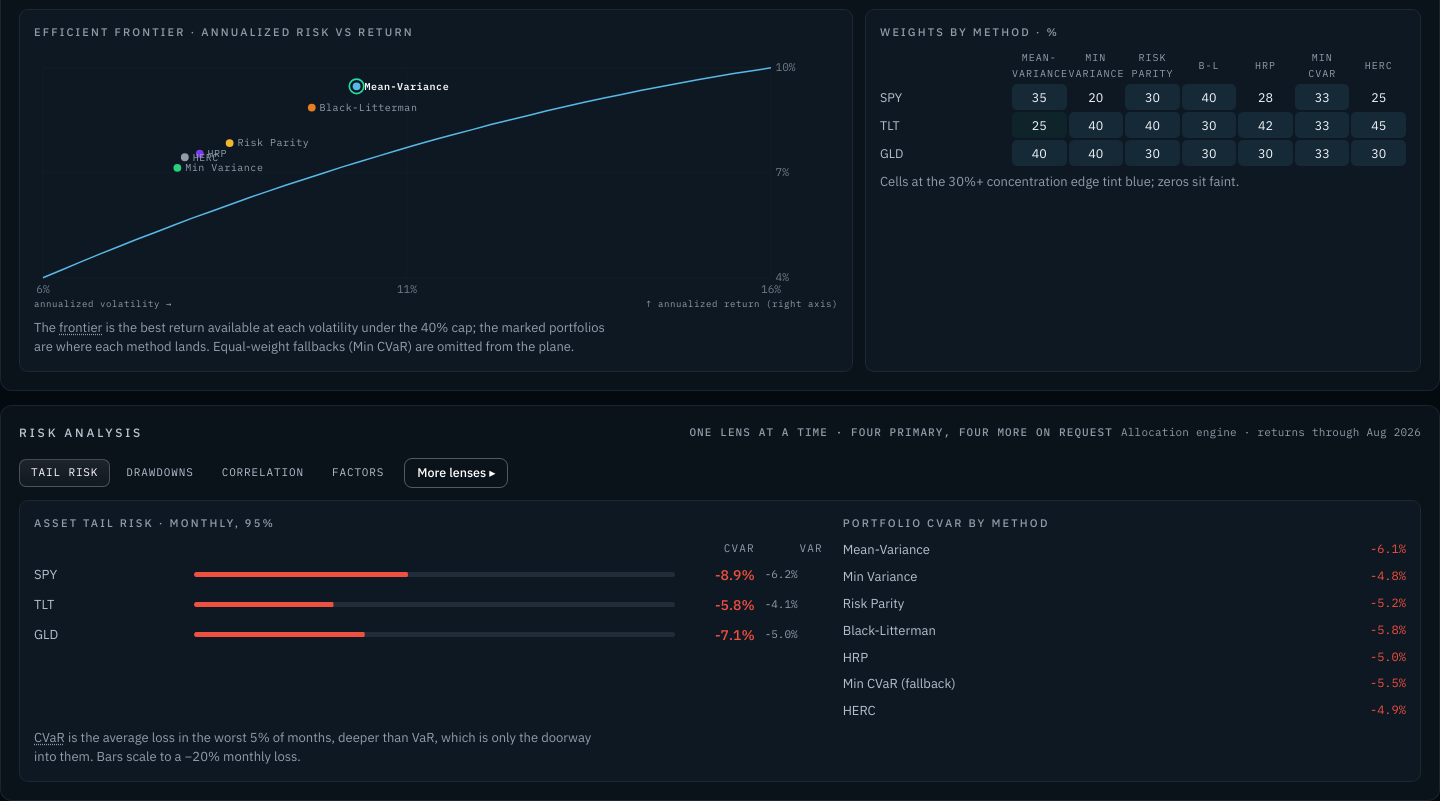
Test: RiskLenses (checklist 09 E.1 row 9) › transitions: the repeated pair option pressed with its count, no single-occurrence pair, a MeterRow per asset, the colon fix
(page scrolled)
Expected: the element with id "allocation-risk" is shown, [0, 405, 1439, 800]
Expected: the element named "Risk lens" is shown, [19, 459, 396, 487]
What coordinates should you click on to do the following:
click the button "More lenses ▸"
I would click on:
 (456, 473)
Its box is [404, 458, 508, 488].
(page scrolled)
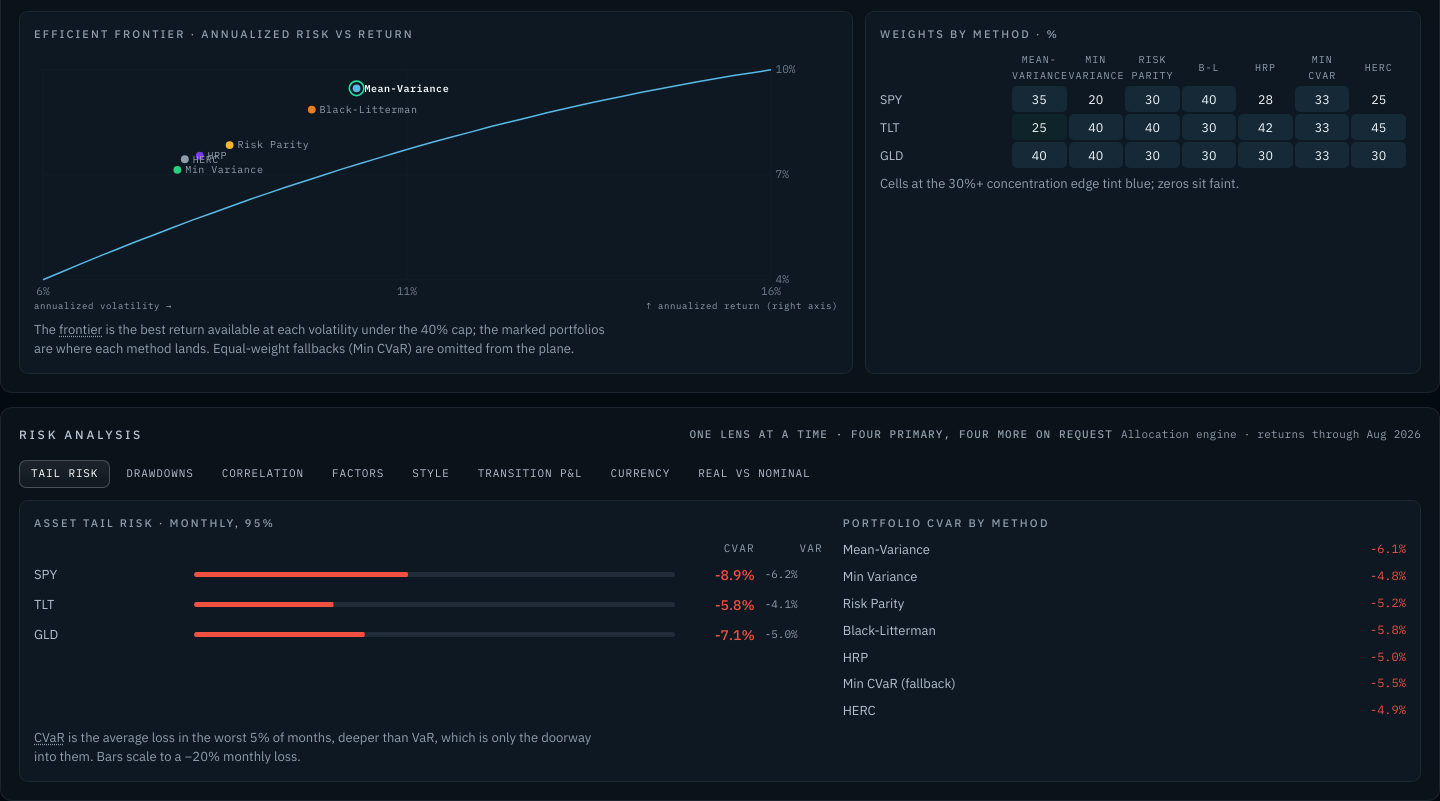
What coordinates should you click on to do the following:
click the button "Transition P&L"
I would click on:
 (530, 474)
Its box is [466, 460, 594, 488].
(page scrolled)
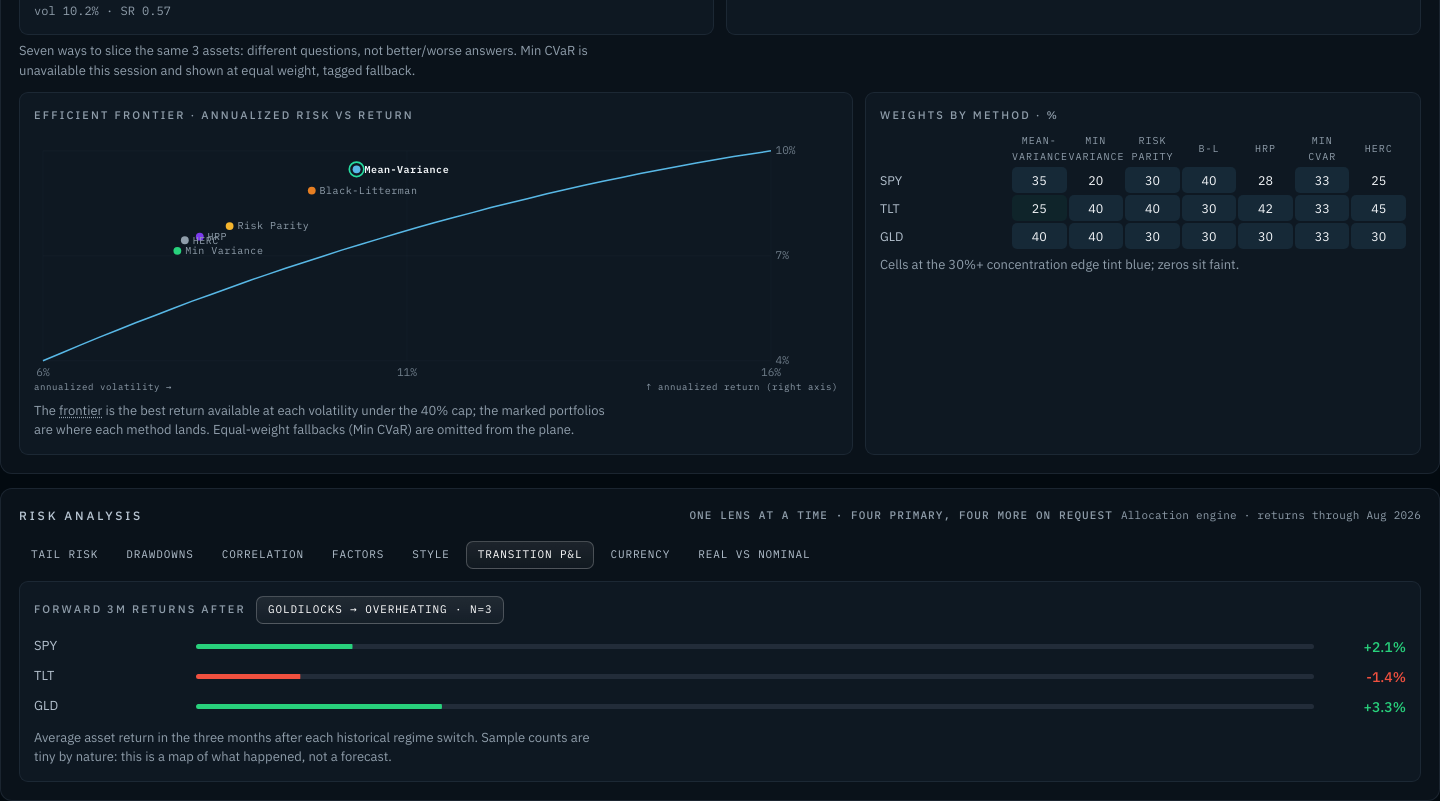
Expected: the element with id "allocation-risk" shows "Forward 3M returns after", [34, 602, 246, 616]
Expected: the element with id "allocation-risk" shows "+2.1%", [1364, 638, 1406, 656]
Expected: the element with id "allocation-risk" shows "-1.4%", [1366, 668, 1406, 686]
